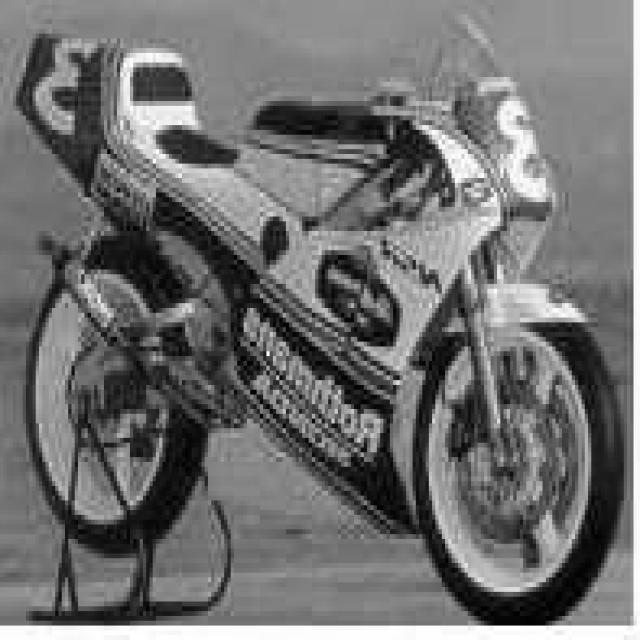Motorcycle: (19, 46, 622, 622)
